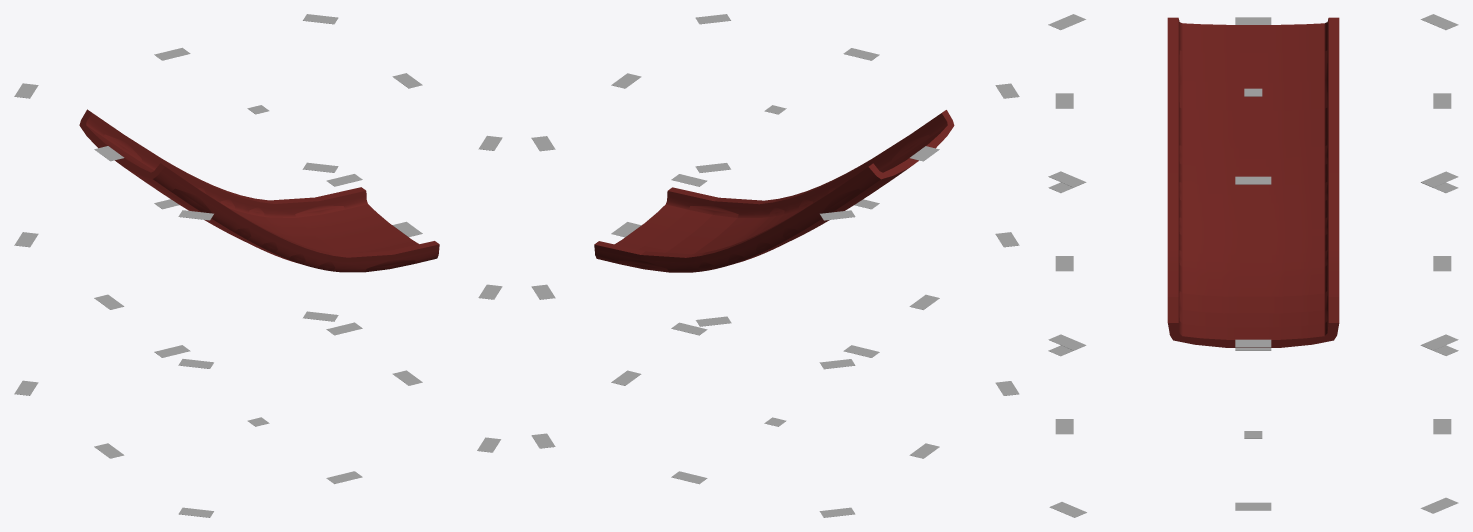
File: FlatConnector45Up.fbx
The picture shows the model from 3 angles, left to right: view 1: azimuth 30°, elevation 25°; view 2: azimuth 150°, elevation 25°; view 3: azimuth 270°, elevation 25°; orthographic projection. The views are drawn at different scales.
Parts seen in each view (by area): view 1: pPipe3; view 2: pPipe3; view 3: pPipe3.
Part boxes in pixels (x1,y1,x2,y2): pPipe3: [79, 109, 439, 272]; pPipe3: [594, 110, 954, 272]; pPipe3: [1167, 17, 1339, 347].
Bounding box in the file's own units: 22.83 × 21.27 × 22.83.
